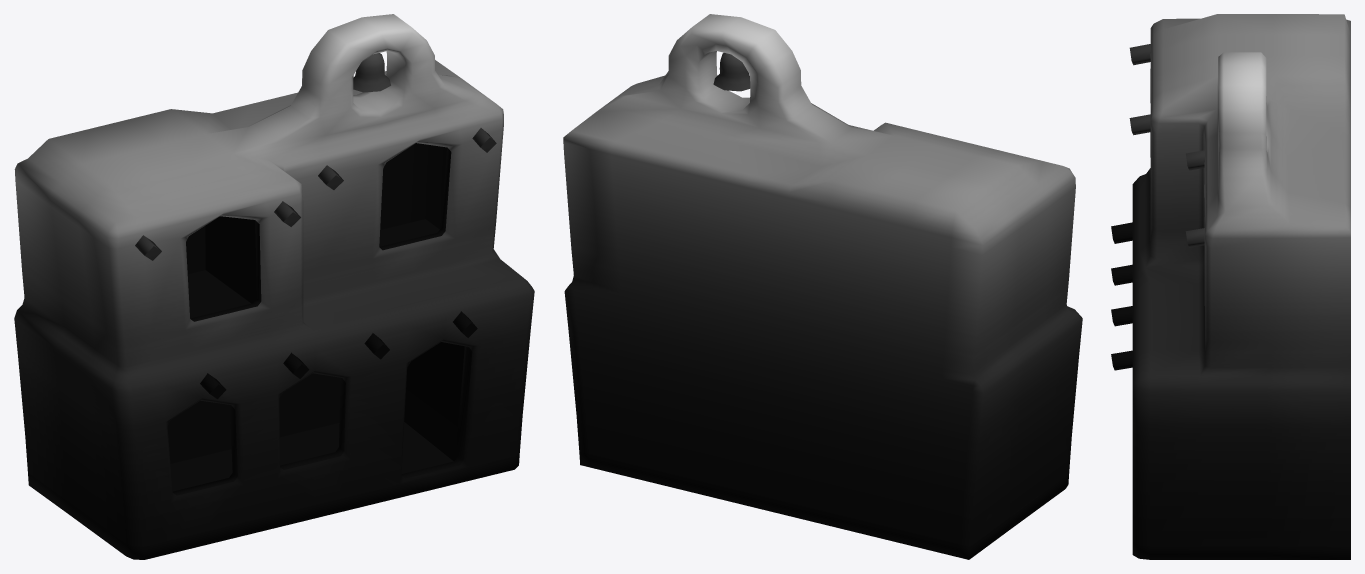
Rendered from Building11.glb.
The picture shows the model from 3 angles, left to right: view 1: azimuth 30°, elevation 25°; view 2: azimuth 150°, elevation 25°; view 3: azimuth 270°, elevation 25°; orthographic projection. The views are drawn at different scales.
Parts seen in each view (by area): view 1: Building11; view 2: Building11; view 3: Building11.
Boxes of the visible parts, x1=… form: Building11: x1=14, y1=14, x2=534, y2=559; Building11: x1=563, y1=14, x2=1082, y2=559; Building11: x1=1111, y1=14, x2=1350, y2=559.
Size of what is drawn, in the model's own units: 12.46 by 12.07 by 5.91.
Materials: 1 (1 with a texture image).
